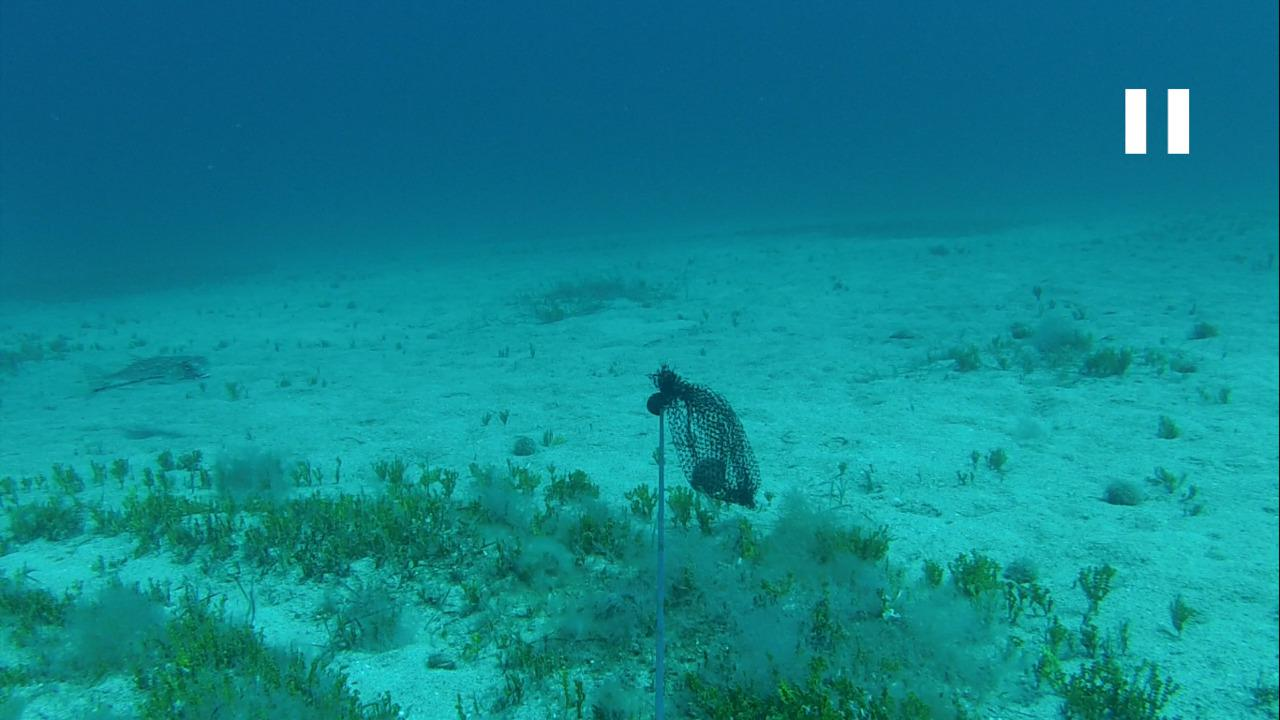dactylopterus: (79, 345, 221, 400)
